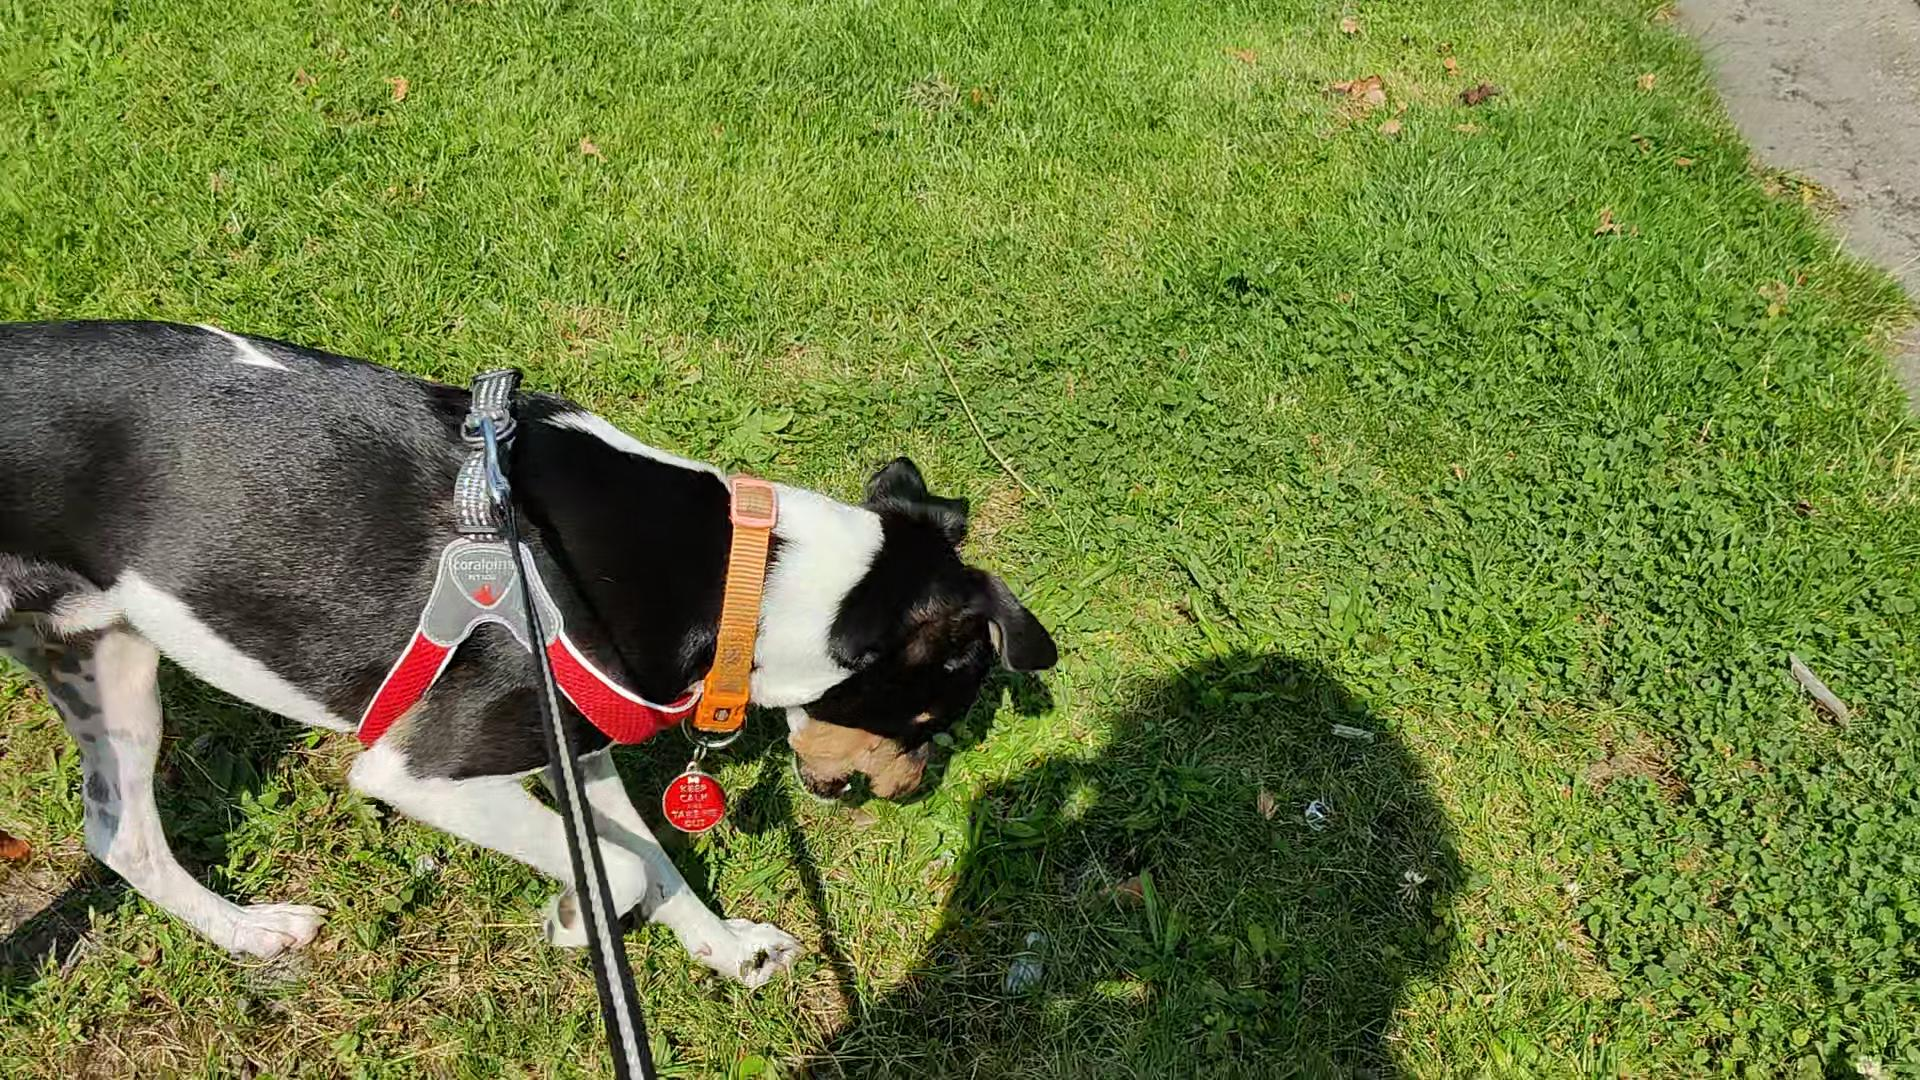Dog: (0, 311, 1065, 998)
